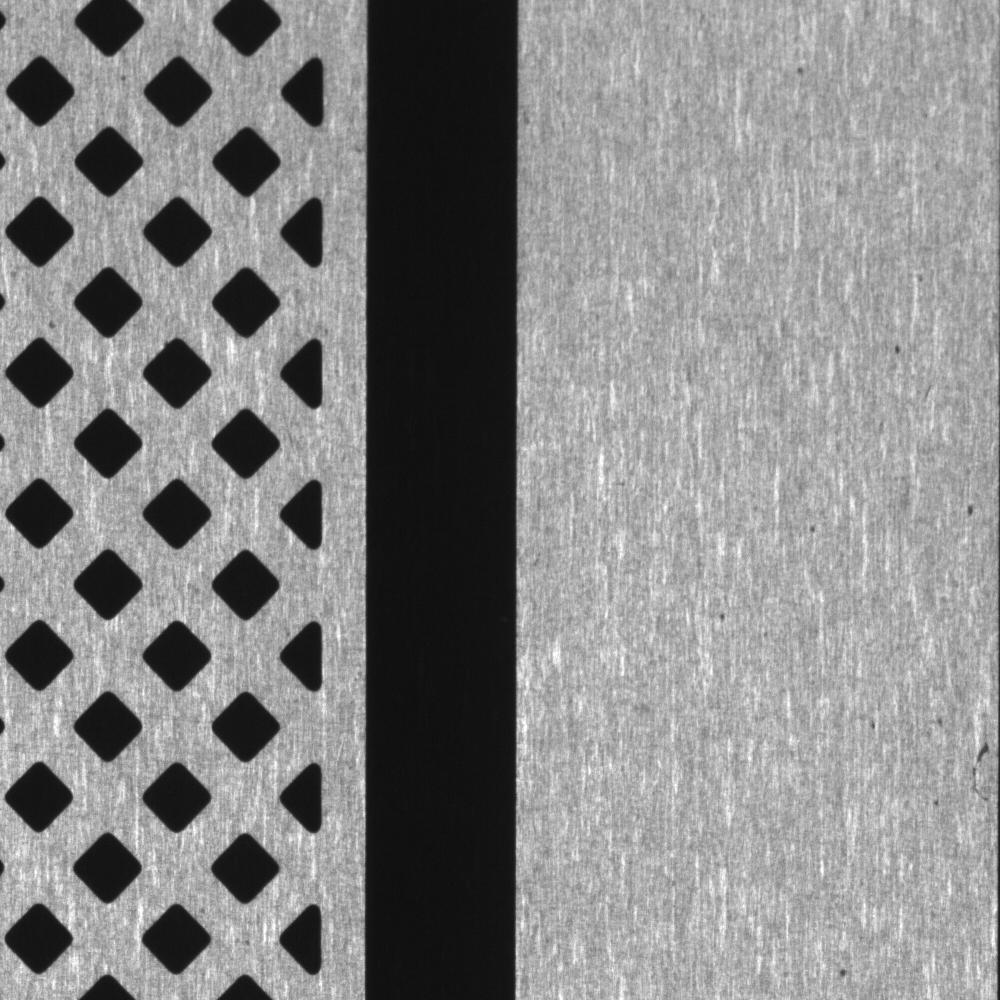Etching: (962, 724, 1000, 827), (955, 487, 985, 523), (888, 330, 915, 364), (859, 709, 885, 741), (924, 709, 953, 735)
Pinhole: (706, 600, 740, 631), (788, 55, 819, 84), (830, 957, 855, 986), (798, 513, 825, 539), (911, 262, 934, 292), (928, 789, 947, 817)
